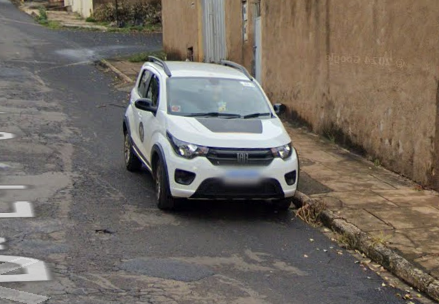car: (119, 49, 304, 223)
